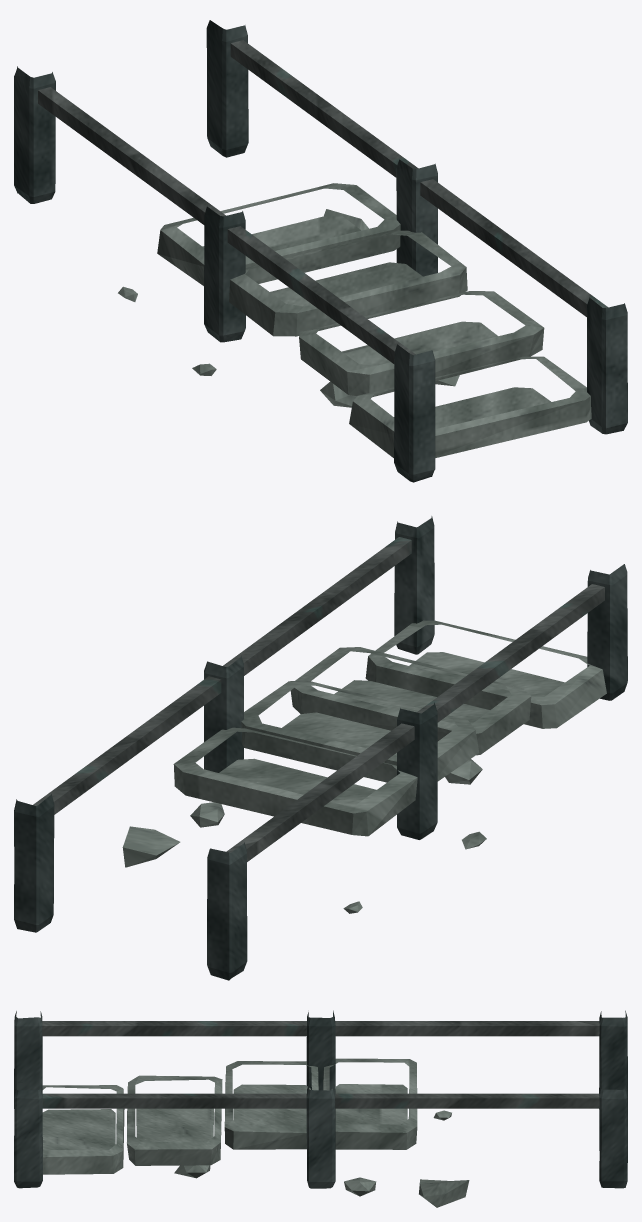
File: 0386_ruined_bridge_11.glb
3 views of the same model, one above another, from view 1: azimuth 30°, elevation 25°; view 2: azimuth 150°, elevation 25°; view 3: azimuth 270°, elevation 25° (orthographic). The views are drawn at different scales.
Parts seen in each view (by area): view 1: stone, stone_dark, iron; view 2: stone, stone_dark, iron; view 3: stone, iron, stone_dark.
Boxes of the visible parts, x1,y1,x2,y2 form: stone: (118,183,591,457); stone_dark: (14,20,627,482); iron: (38,40,607,363); stone: (122,620,606,913); stone_dark: (14,516,627,980); iron: (33,537,604,861); stone: (42,1058,469,1207); iron: (42,1021,599,1108); stone_dark: (14,1010,627,1188).
Size of the model in its own units: 2.08 by 1.11 by 5.4.
Materials: 3 (3 with a texture image).
